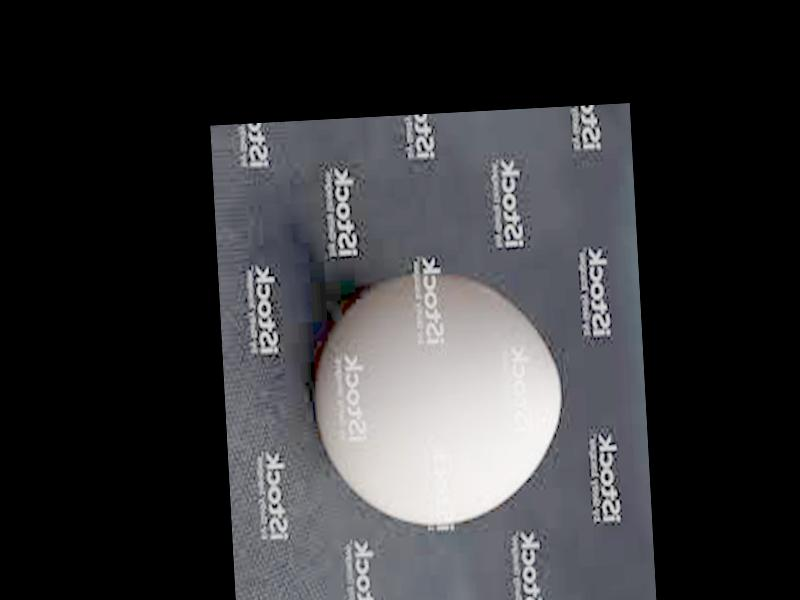Eggs: (307, 266, 567, 530)
